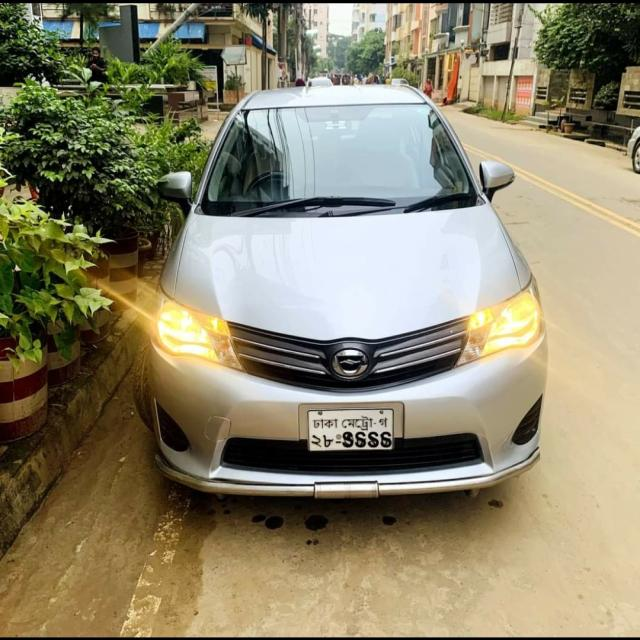silver: (154, 79, 547, 522)
